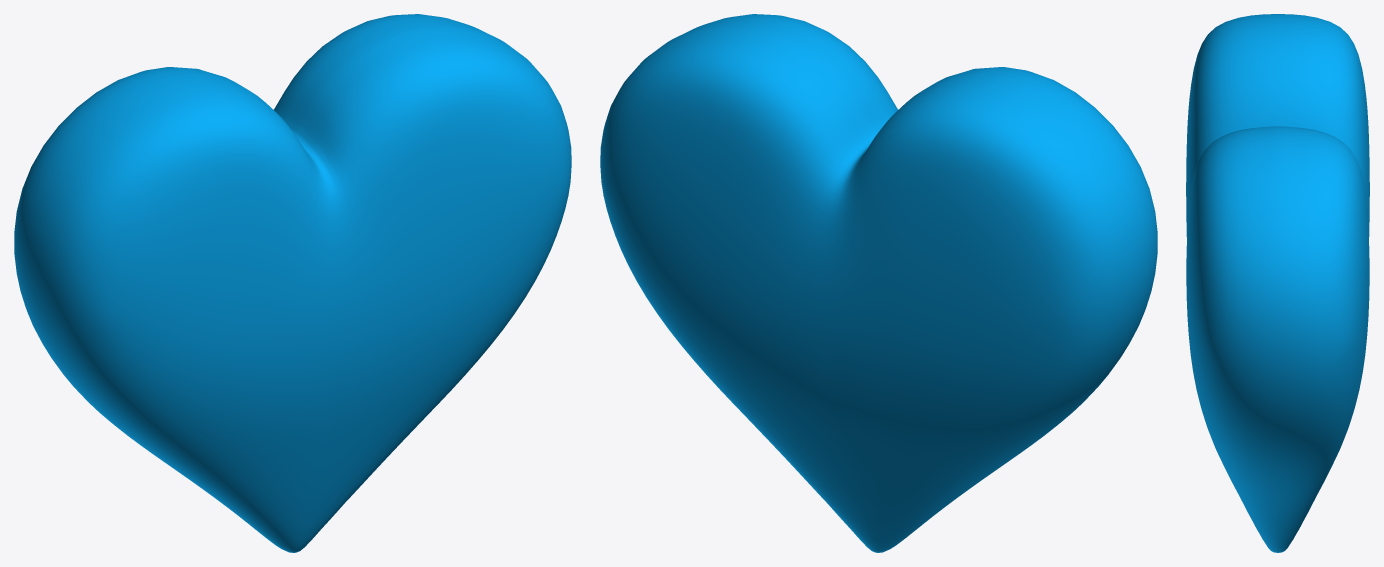
The model's file is blue_heart.gltf.
3 renders of one model, left to right at view 1: azimuth 30°, elevation 25°; view 2: azimuth 150°, elevation 25°; view 3: azimuth 270°, elevation 25°, orthographic. The views are drawn at different scales.
Parts seen in each view (by area): view 1: hfdjkslfjkds.022; view 2: hfdjkslfjkds.022; view 3: hfdjkslfjkds.022.
Part boxes in pixels (x1,y1,x2,y2): hfdjkslfjkds.022: (14,14,571,552); hfdjkslfjkds.022: (600,14,1157,552); hfdjkslfjkds.022: (1186,14,1369,552).
Bounding box in the file's own units: 1.86 × 1.68 × 0.5956.
Materials: 1 (1 with a texture image).
